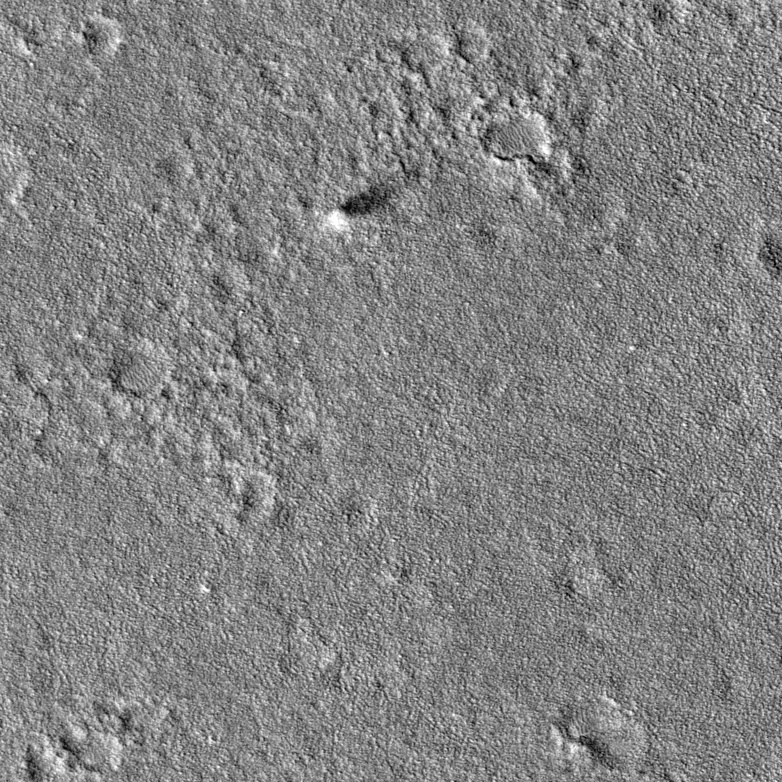dust_devil: (324, 166, 422, 235)
